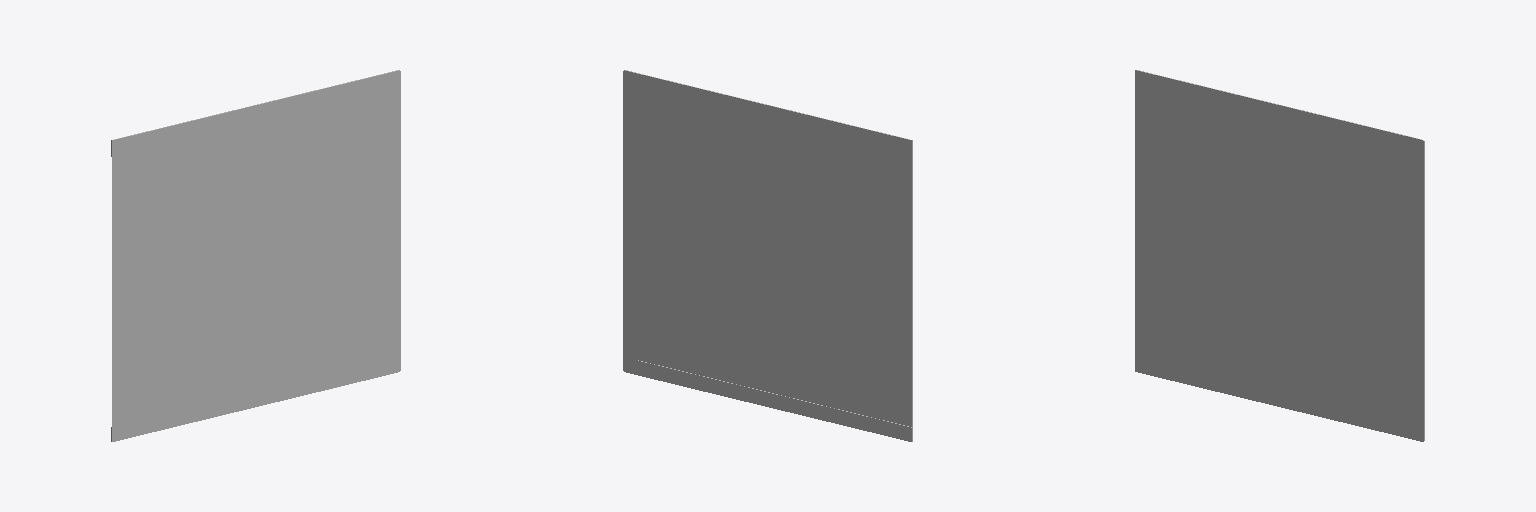
File: blocks-grass-pavement-open-40m.obj
3 renders of one model, left to right at view 1: azimuth 30°, elevation 25°; view 2: azimuth 150°, elevation 25°; view 3: azimuth 330°, elevation 25°, orthographic.
Visible parts, largest first — view 1: blocks-grass-pavement-open-40m_Plane.032; view 2: blocks-grass-pavement-open-40m_Plane.032; view 3: blocks-grass-pavement-open-40m_Plane.032.
Part boxes in pixels (x1,y1,x2,y2): blocks-grass-pavement-open-40m_Plane.032: (111, 70, 400, 441); blocks-grass-pavement-open-40m_Plane.032: (623, 70, 912, 441); blocks-grass-pavement-open-40m_Plane.032: (1135, 70, 1424, 441).
Bounding box in the file's own units: 40 × 40 × 0.15.